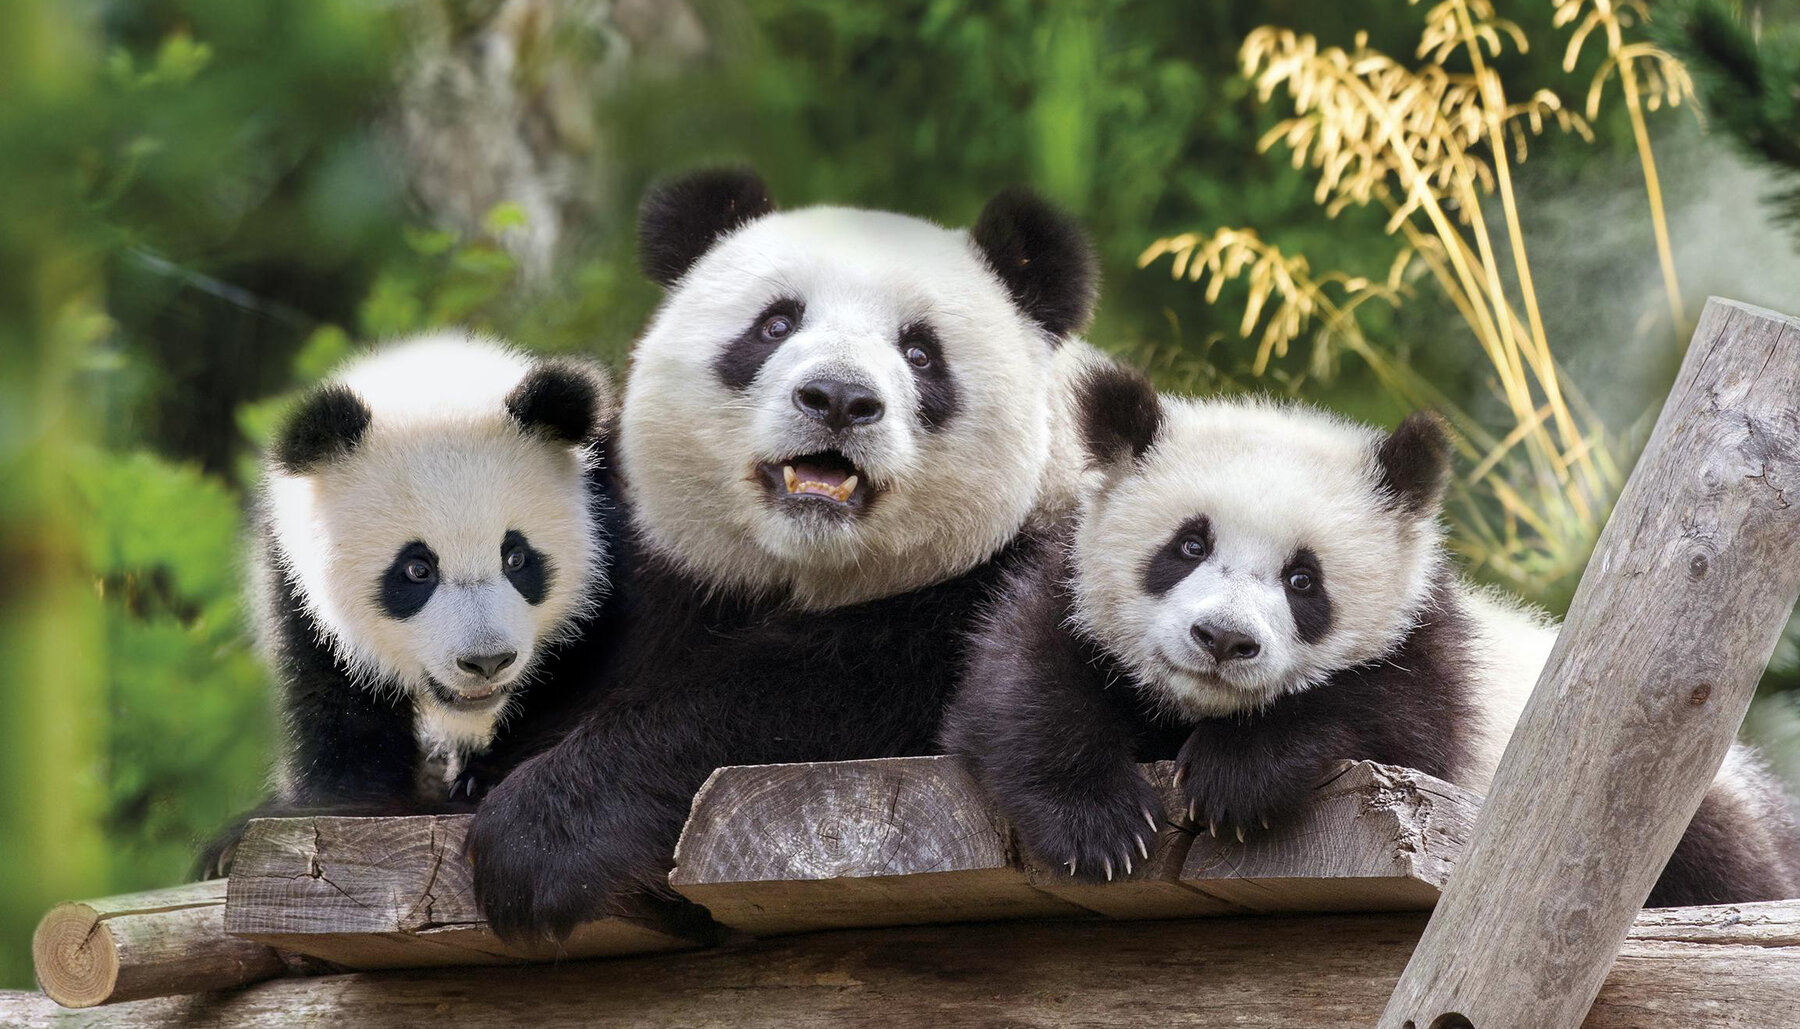Giant panda: (614, 162, 1089, 613), (1078, 361, 1464, 716), (273, 343, 603, 707)
